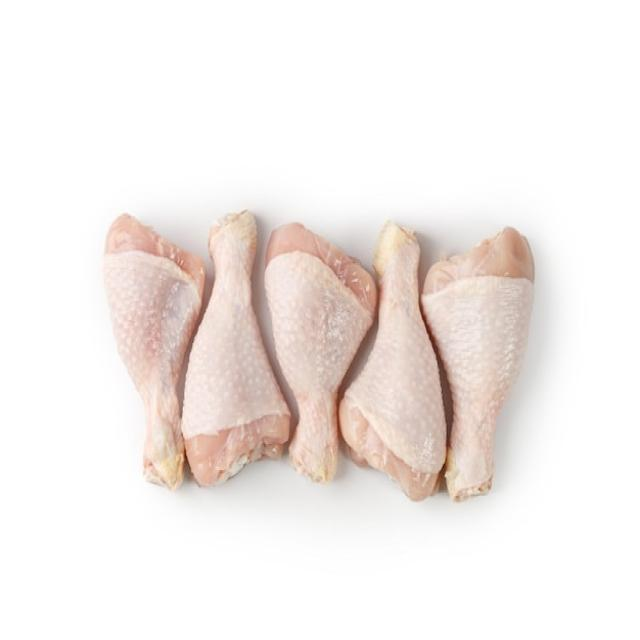leg: (412, 224, 533, 498), (264, 225, 376, 500), (338, 222, 441, 506), (189, 206, 284, 492), (103, 214, 189, 486)
